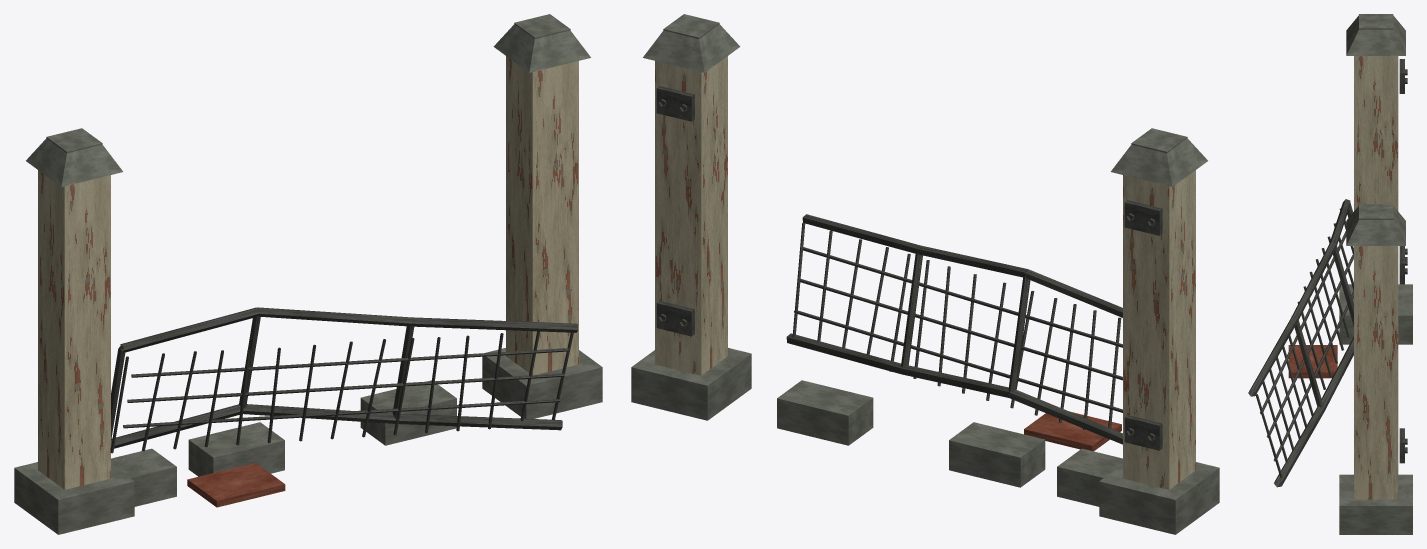
The model's file is base_fence_damaged.gltf.
3 renders of one model, left to right at view 1: azimuth 30°, elevation 25°; view 2: azimuth 150°, elevation 25°; view 3: azimuth 270°, elevation 25°, orthographic. The views are drawn at different scales.
Parts seen in each view (by area): view 1: base_fence_damaged; view 2: base_fence_damaged; view 3: base_fence_damaged.
Part boxes in pixels (x1,y1,x2,y2): base_fence_damaged: [14, 14, 602, 534]; base_fence_damaged: [631, 14, 1219, 534]; base_fence_damaged: [1248, 14, 1412, 534].
Bounding box in the file's own units: 3.42 × 2.22 × 1.08.
Materials: 1 (1 with a texture image).
